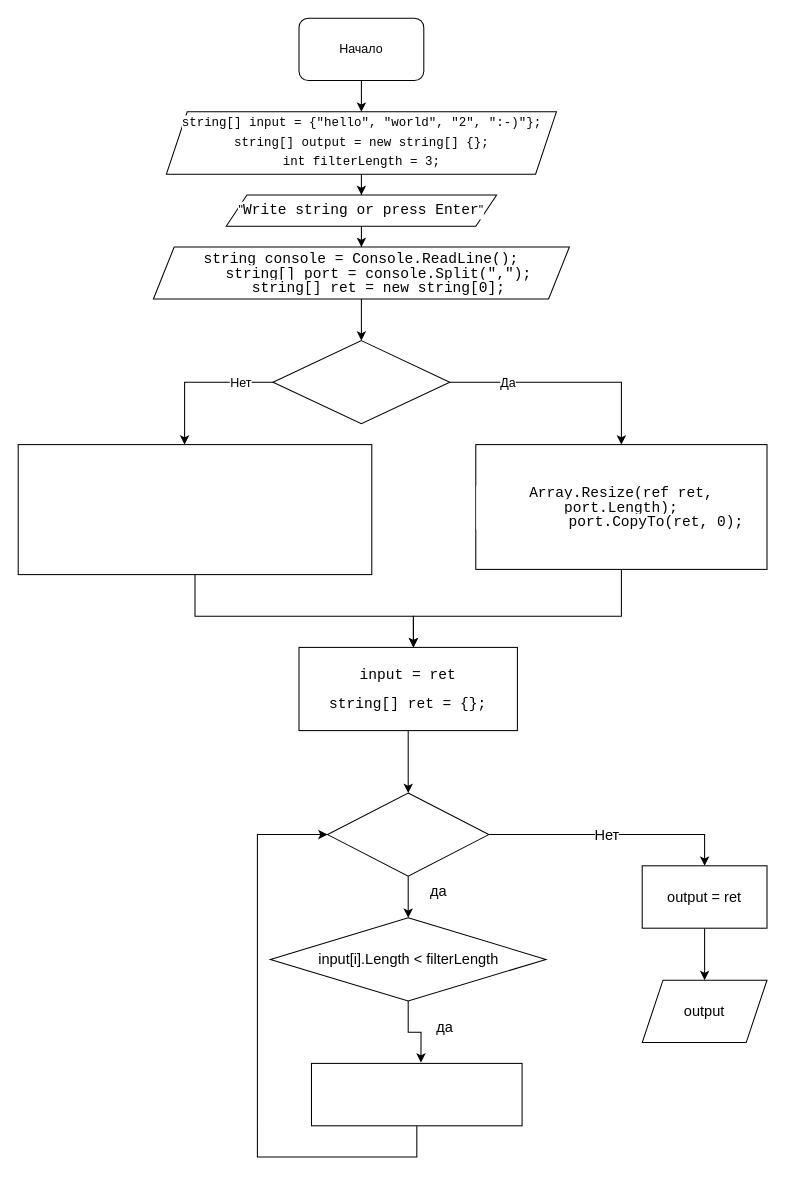
Some shapes in this 785 by 1184 pixel diagram are drawn without their labels. The shapes that lost their labels are listed below. From the top down, each one's centre as x and y in pixels, then its label:
At pixel 361 382: "port.Length > 1".
At pixel 194 509: "Array.Resize(ref ret, arr.Length); arr.CopyTo(ret, 0);".
At pixel 408 834: "i < input.Length".
At pixel 416 1094: "ret = ret.Append(input[i]).toArray() i = i + 1".
